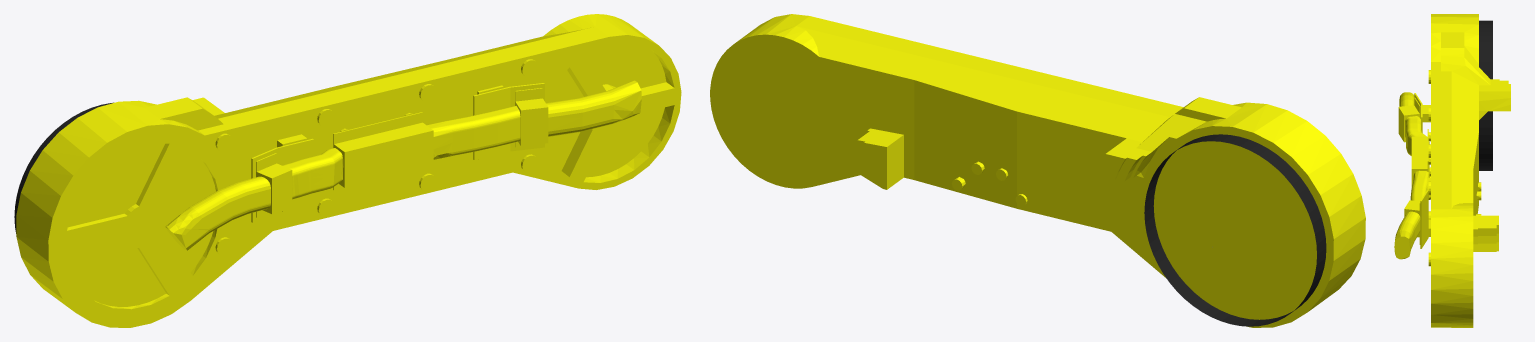
The picture shows the model from 3 angles, left to right: view 1: azimuth 30°, elevation 25°; view 2: azimuth 150°, elevation 25°; view 3: azimuth 270°, elevation 25°; orthographic projection. The views are drawn at different scales.
Visible parts, largest first — view 1: node; view 2: node; view 3: node.
Part boxes in pixels (bbox=[...]): node: bbox=[14, 14, 681, 327]; node: bbox=[710, 14, 1365, 327]; node: bbox=[1394, 14, 1510, 327].
Size of the model in its own units: 1182 by 354 by 273.
